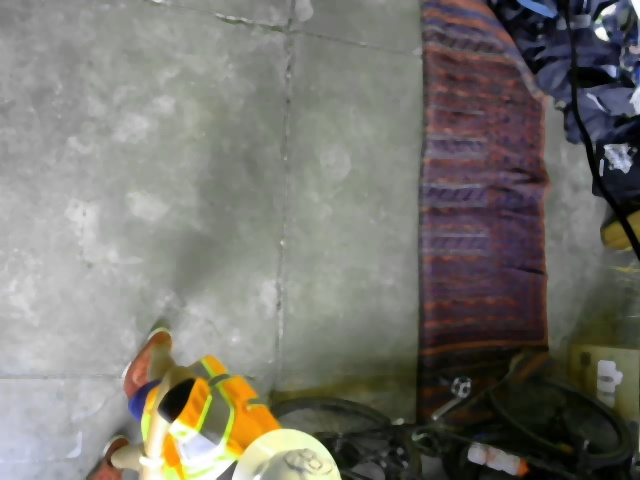eight: (284, 448, 336, 475)
